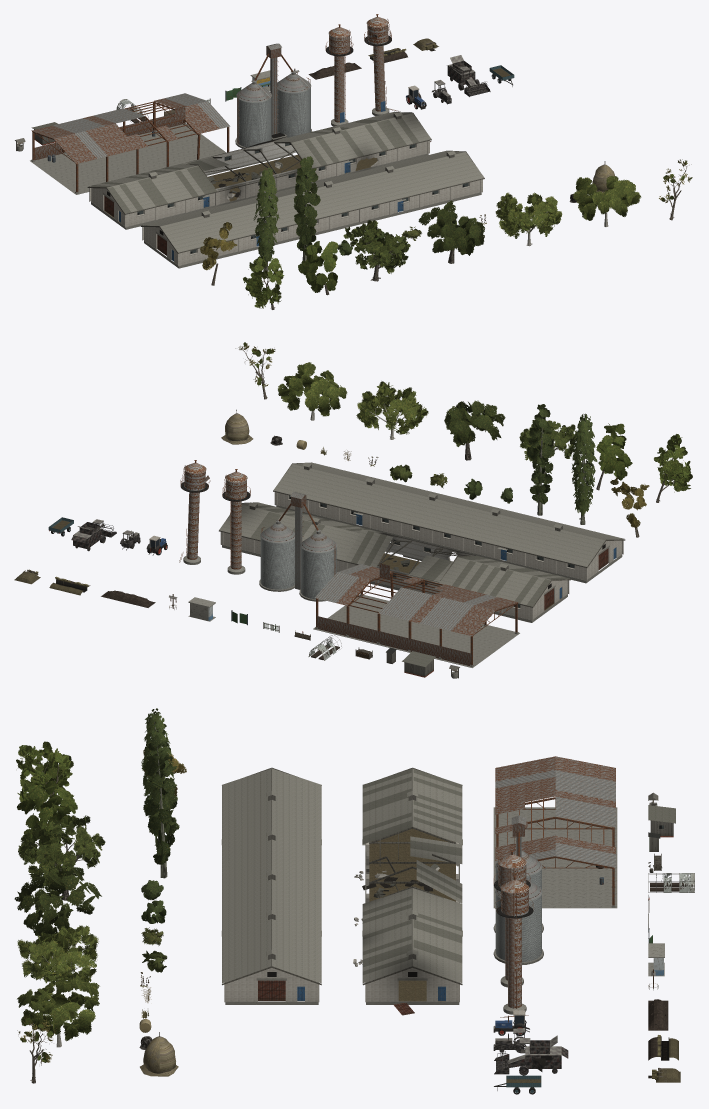
File: farmland.glb
The picture shows the model from 3 angles, top to bottom: view 1: azimuth 30°, elevation 25°; view 2: azimuth 150°, elevation 25°; view 3: azimuth 270°, elevation 25°; orthographic projection. The views are drawn at different scales.
Visible parts, largest first — view 1: barn_kolkhoz_damaged_geo, barn_kolkhoz_geo, machine_shed_geo, grain_silo_geo, tree_oak_leafy_lod1_geo, tree_oak_leafy_geo, tree_walnut_leafy_geo, tree_walnut_leafy_lod1_geo, tree_poplar_leafy_lod1_geo, tree_poplar_leafy_geo, water_tower_geo, water_tower_damaged_geo (+5 smaller); view 2: barn_kolkhoz_geo, machine_shed_geo, barn_kolkhoz_damaged_geo, grain_silo_geo, tree_walnut_leafy_geo, tree_walnut_leafy_lod1_geo, tree_oak_leafy_lod1_geo, tree_poplar_leafy_lod1_geo, tree_poplar_leafy_geo, water_tower_damaged_geo, water_tower_geo, tree_acacia_leafy_geo (+7 smaller); view 3: barn_kolkhoz_damaged_geo, barn_kolkhoz_geo, machine_shed_geo, tree_oak_leafy_geo, tree_walnut_leafy_geo, tree_walnut_leafy_lod1_geo, tree_oak_leafy_lod1_geo, grain_silo_geo, tree_poplar_leafy_lod1_geo, water_tower_damaged_geo, tree_acacia_leafy_geo, tree_acacia_leafy_lod1_geo (+9 smaller).
Part boxes in pixels (x1=…): barn_kolkhoz_damaged_geo: x1=87, y1=111, x2=431, y2=229; barn_kolkhoz_geo: x1=140, y1=150, x2=484, y2=268; machine_shed_geo: x1=30, y1=93, x2=230, y2=194; grain_silo_geo: x1=235, y1=43, x2=312, y2=148; tree_oak_leafy_lod1_geo: x1=418, y1=200, x2=484, y2=263; tree_oak_leafy_geo: x1=343, y1=220, x2=410, y2=281; tree_walnut_leafy_geo: x1=495, y1=192, x2=562, y2=246; tree_walnut_leafy_lod1_geo: x1=573, y1=176, x2=641, y2=226; tree_poplar_leafy_lod1_geo: x1=293, y1=156, x2=320, y2=261; tree_poplar_leafy_geo: x1=253, y1=167, x2=279, y2=271; water_tower_geo: x1=325, y1=24, x2=353, y2=126; water_tower_damaged_geo: x1=364, y1=14, x2=398, y2=116; barn_kolkhoz_geo: x1=273, y1=462, x2=625, y2=583; machine_shed_geo: x1=313, y1=563, x2=519, y2=667; barn_kolkhoz_damaged_geo: x1=219, y1=502, x2=570, y2=622; grain_silo_geo: x1=259, y1=492, x2=336, y2=601; tree_walnut_leafy_geo: x1=356, y1=381, x2=428, y2=439; tree_walnut_leafy_lod1_geo: x1=278, y1=362, x2=347, y2=420; tree_oak_leafy_lod1_geo: x1=444, y1=400, x2=505, y2=460; tree_poplar_leafy_lod1_geo: x1=527, y1=404, x2=554, y2=515; tree_poplar_leafy_geo: x1=571, y1=413, x2=597, y2=524; water_tower_damaged_geo: x1=179, y1=460, x2=210, y2=564; water_tower_geo: x1=222, y1=469, x2=250, y2=574; tree_acacia_leafy_geo: x1=654, y1=434, x2=692, y2=502; barn_kolkhoz_damaged_geo: x1=353, y1=767, x2=462, y2=1015; barn_kolkhoz_geo: x1=221, y1=767, x2=321, y2=1004; machine_shed_geo: x1=493, y1=756, x2=617, y2=908; tree_oak_leafy_geo: x1=18, y1=815, x2=105, y2=900; tree_walnut_leafy_geo: x1=17, y1=925, x2=98, y2=994; tree_walnut_leafy_lod1_geo: x1=17, y1=974, x2=99, y2=1047; tree_oak_leafy_lod1_geo: x1=14, y1=866, x2=101, y2=936; grain_silo_geo: x1=493, y1=815, x2=543, y2=964; tree_poplar_leafy_lod1_geo: x1=143, y1=734, x2=179, y2=878; water_tower_damaged_geo: x1=494, y1=876, x2=533, y2=1017; tree_acacia_leafy_geo: x1=16, y1=741, x2=73, y2=811; tree_acacia_leafy_lod1_geo: x1=17, y1=780, x2=77, y2=865.
Size of the model in its own units: 88.85 by 20.98 by 88.13.
2 materials, 2 textured.
